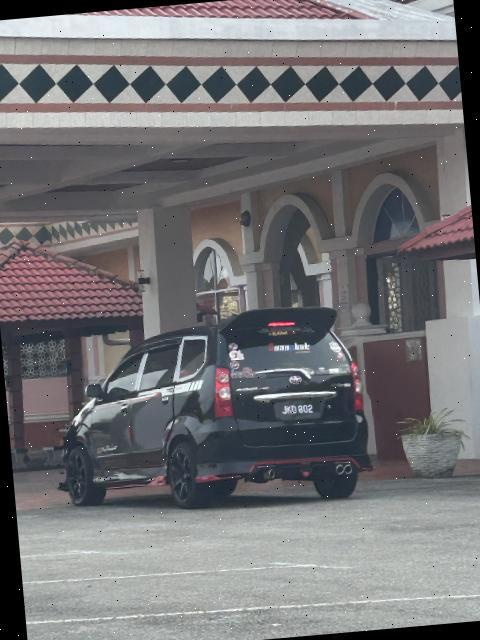License_Plate: (272, 398, 325, 423)
car: (52, 299, 381, 528)
jkd802: (272, 398, 325, 423)
